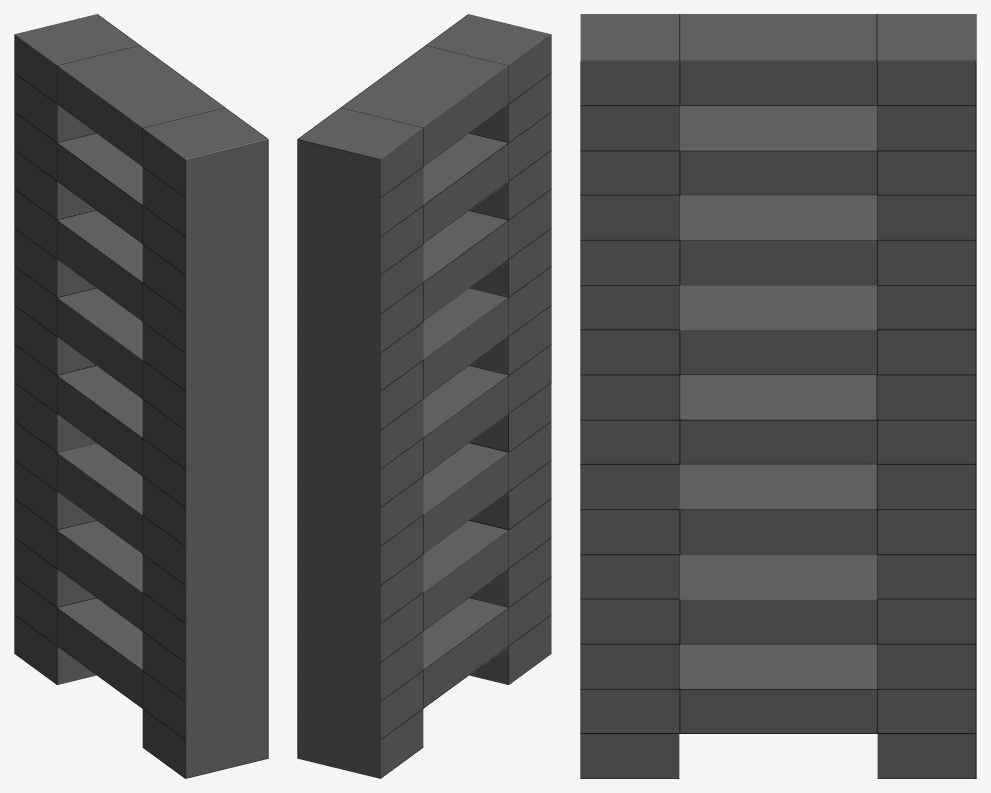
The model's file is ladder.obj.
The picture shows the model from 3 angles, left to right: view 1: azimuth 30°, elevation 25°; view 2: azimuth 150°, elevation 25°; view 3: azimuth 270°, elevation 25°; orthographic projection. The views are drawn at different scales.
Parts seen in each view (by area): view 1: ladder_Cube.006; view 2: ladder_Cube.006; view 3: ladder_Cube.006.
Part boxes in pixels (box(x1,y1,x2,y2)): ladder_Cube.006: box(14, 14, 268, 778); ladder_Cube.006: box(297, 14, 551, 778); ladder_Cube.006: box(580, 14, 976, 778).
Size of the model in its own units: 0.2808 by 2 by 1.
1 material, 1 textured.
